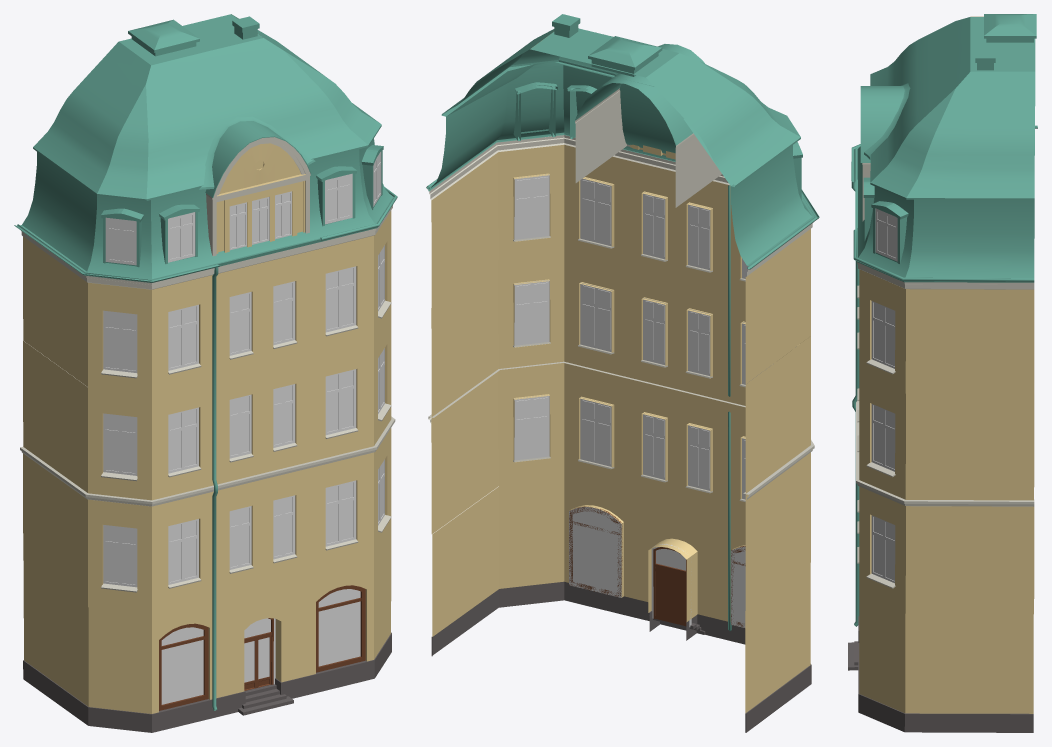
File: house1.fbx
The picture shows the model from 3 angles, left to right: view 1: azimuth 30°, elevation 25°; view 2: azimuth 150°, elevation 25°; view 3: azimuth 270°, elevation 25°; orthographic projection. The views are drawn at different scales.
Parts seen in each view (by area): view 1: Unity_Export_Mesh; view 2: Unity_Export_Mesh; view 3: Unity_Export_Mesh.
Part boxes in pixels (x1,y1,x2,y2): Unity_Export_Mesh: (14,14,397,732); Unity_Export_Mesh: (426,14,819,732); Unity_Export_Mesh: (848,14,1037,732).
Size of the model in its own units: 217 by 410 by 112.
